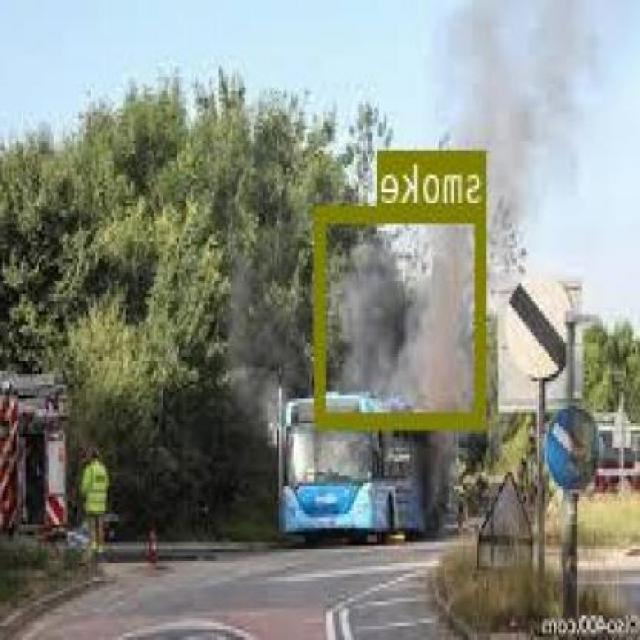Smoke: (316, 206, 489, 426)
